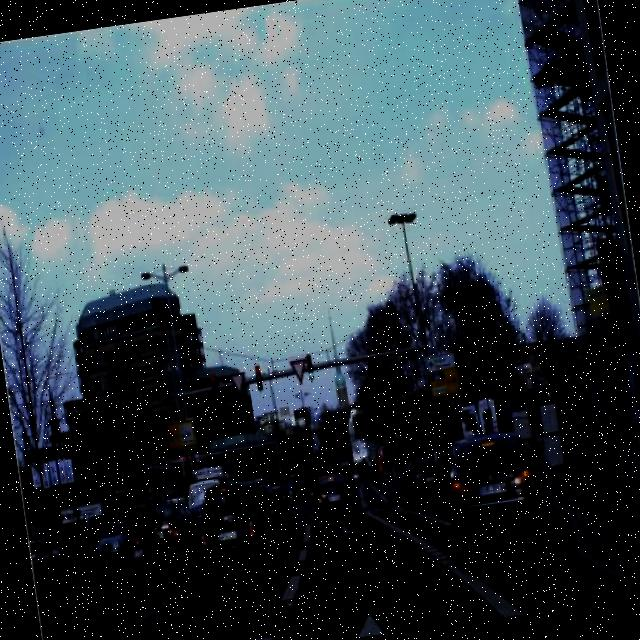Ustap pierwszenstwa: (288, 356, 311, 389), (226, 371, 248, 398)
